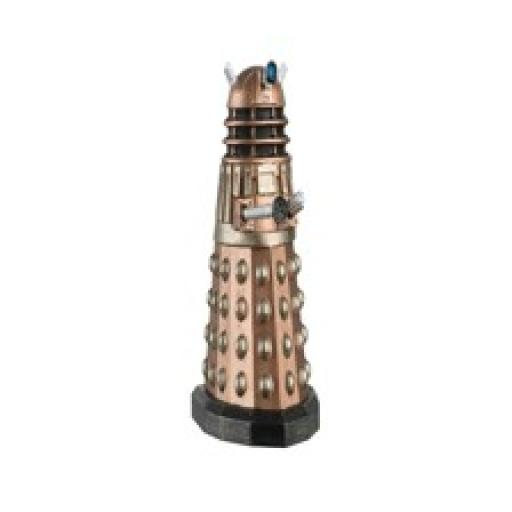dalek: (177, 54, 332, 448)
